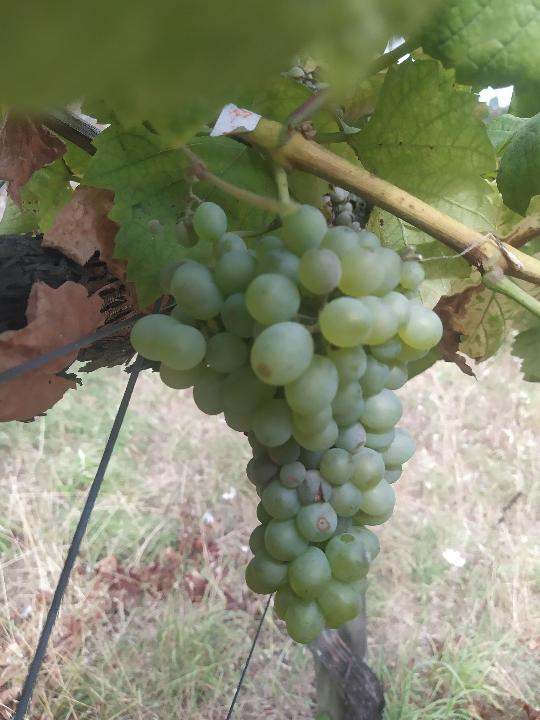grape: (128, 197, 446, 646)
